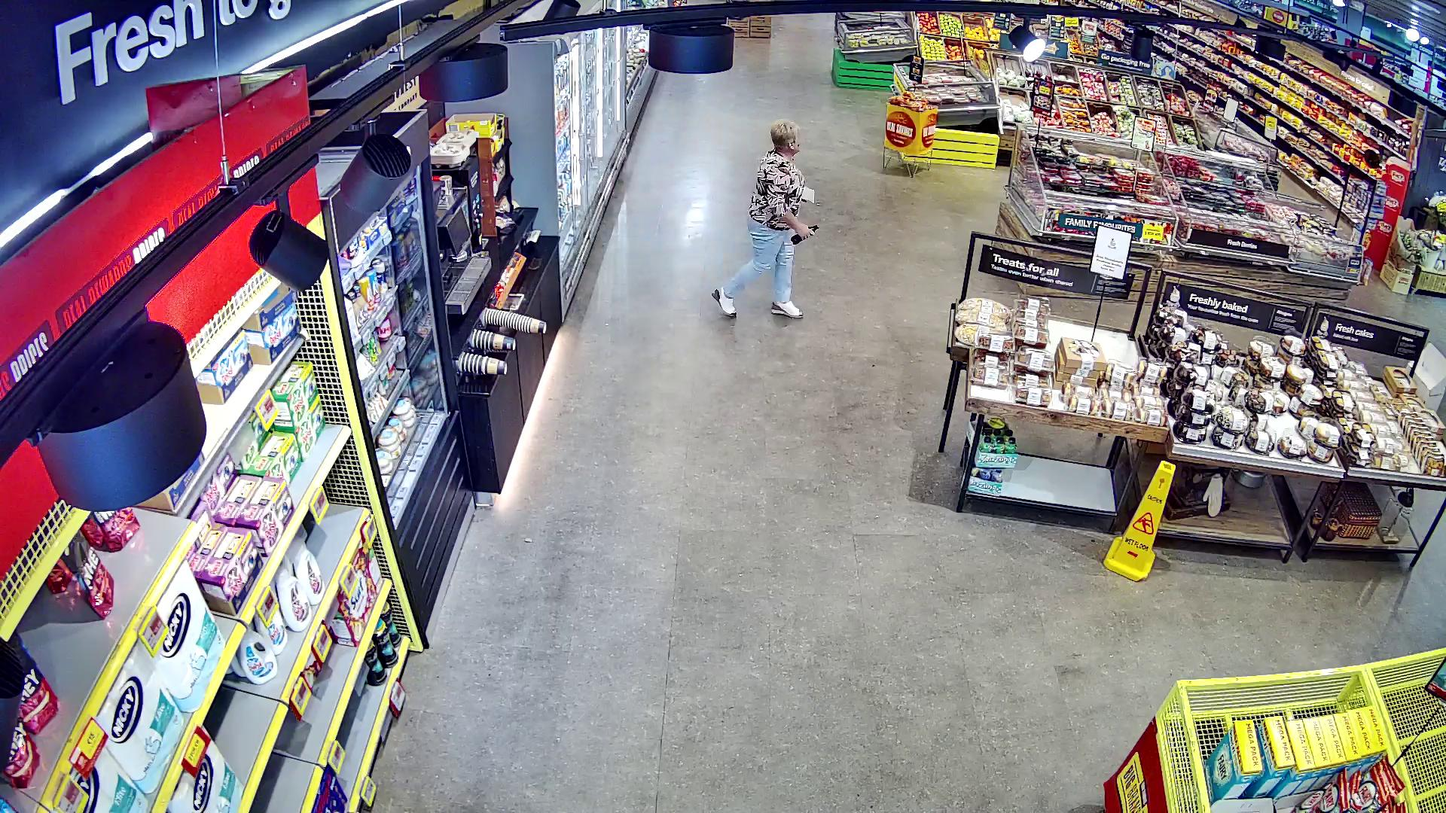carrying-item: (791, 223, 820, 245)
person: (711, 119, 806, 318)
person-with-carrying-item: (710, 119, 820, 315)
